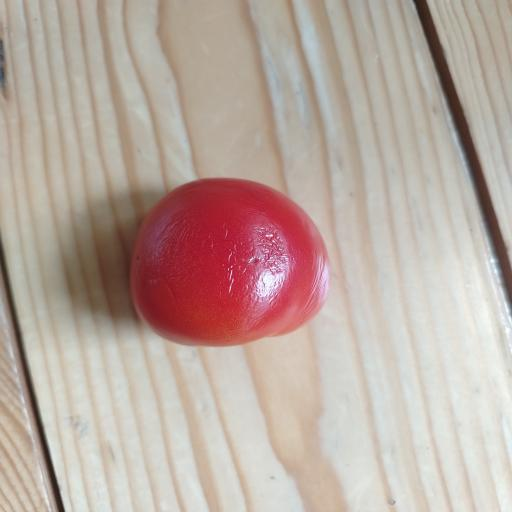spoiled: (130, 179, 329, 346)
